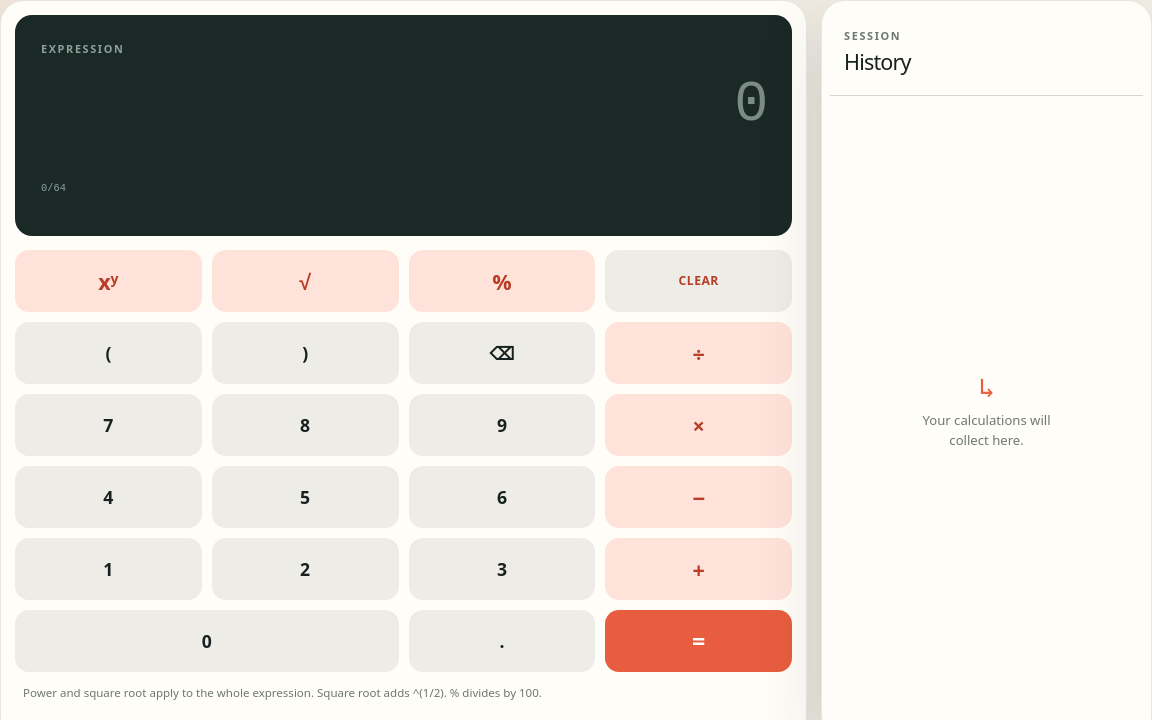
Test: calculator input › allows prefix - but blocks evaluation
Type "-" into the field. click: (404, 105)
box: [41,71,766,140]
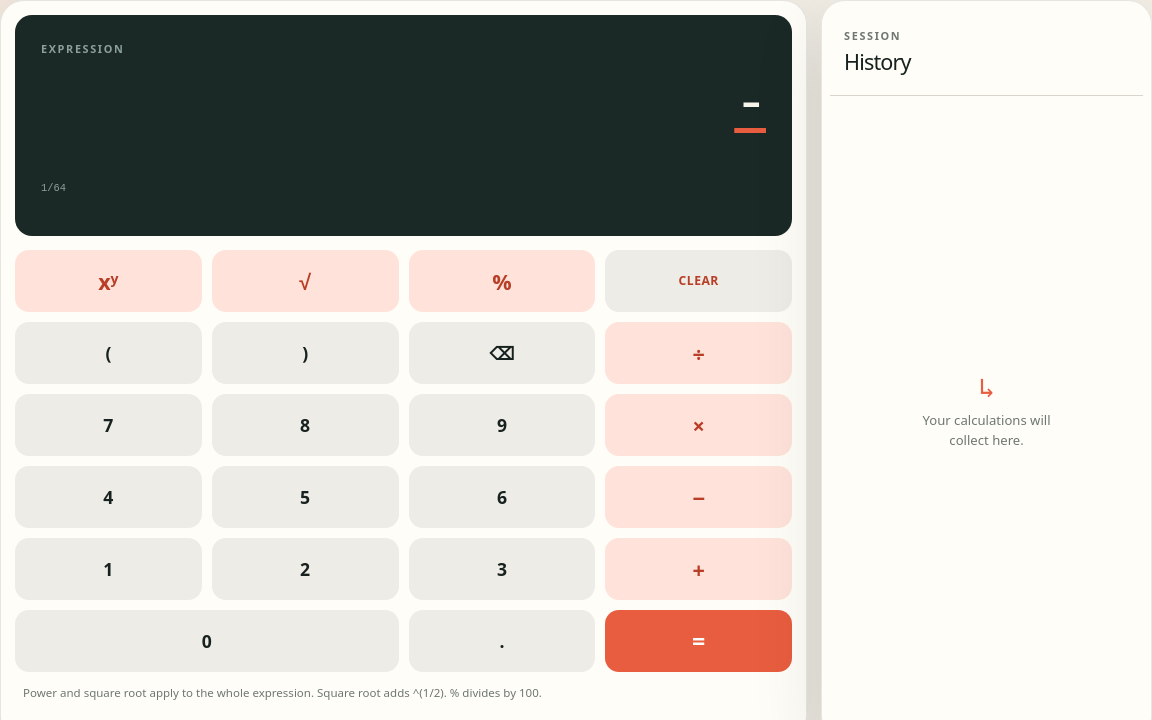
Click the button named "Calculate result". click: (699, 642)
box: [605,610,792,672]
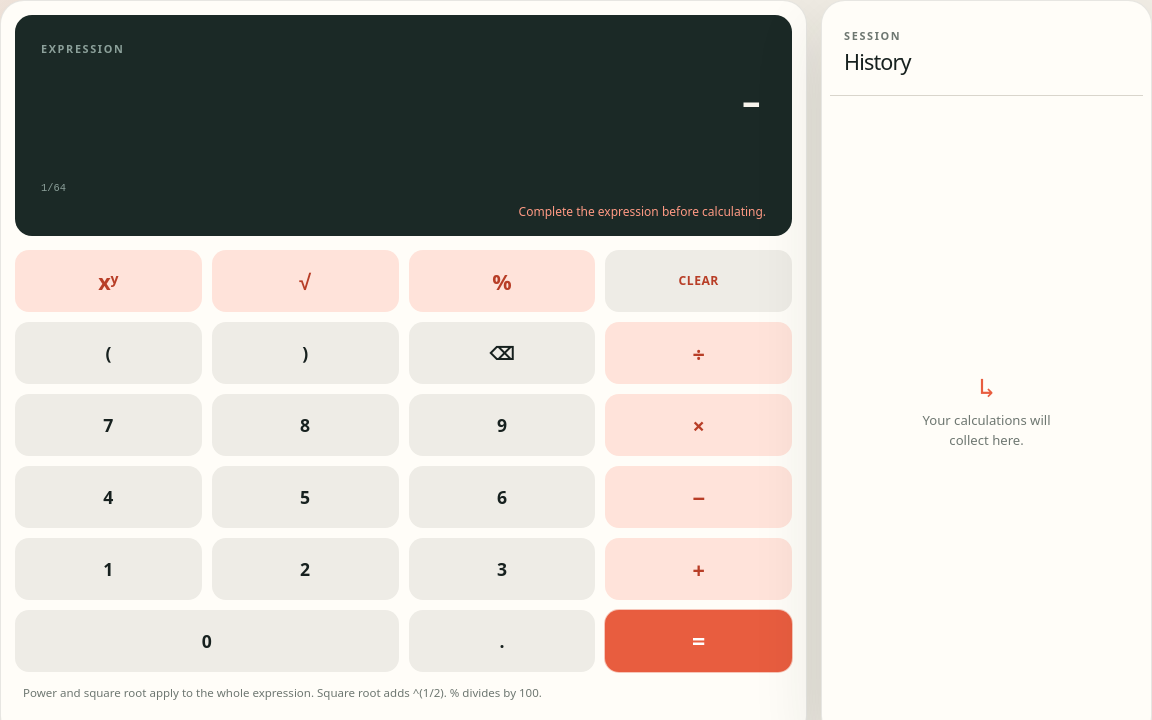
Expected: the message shows "Complete the expression", [519,204,766,220]
